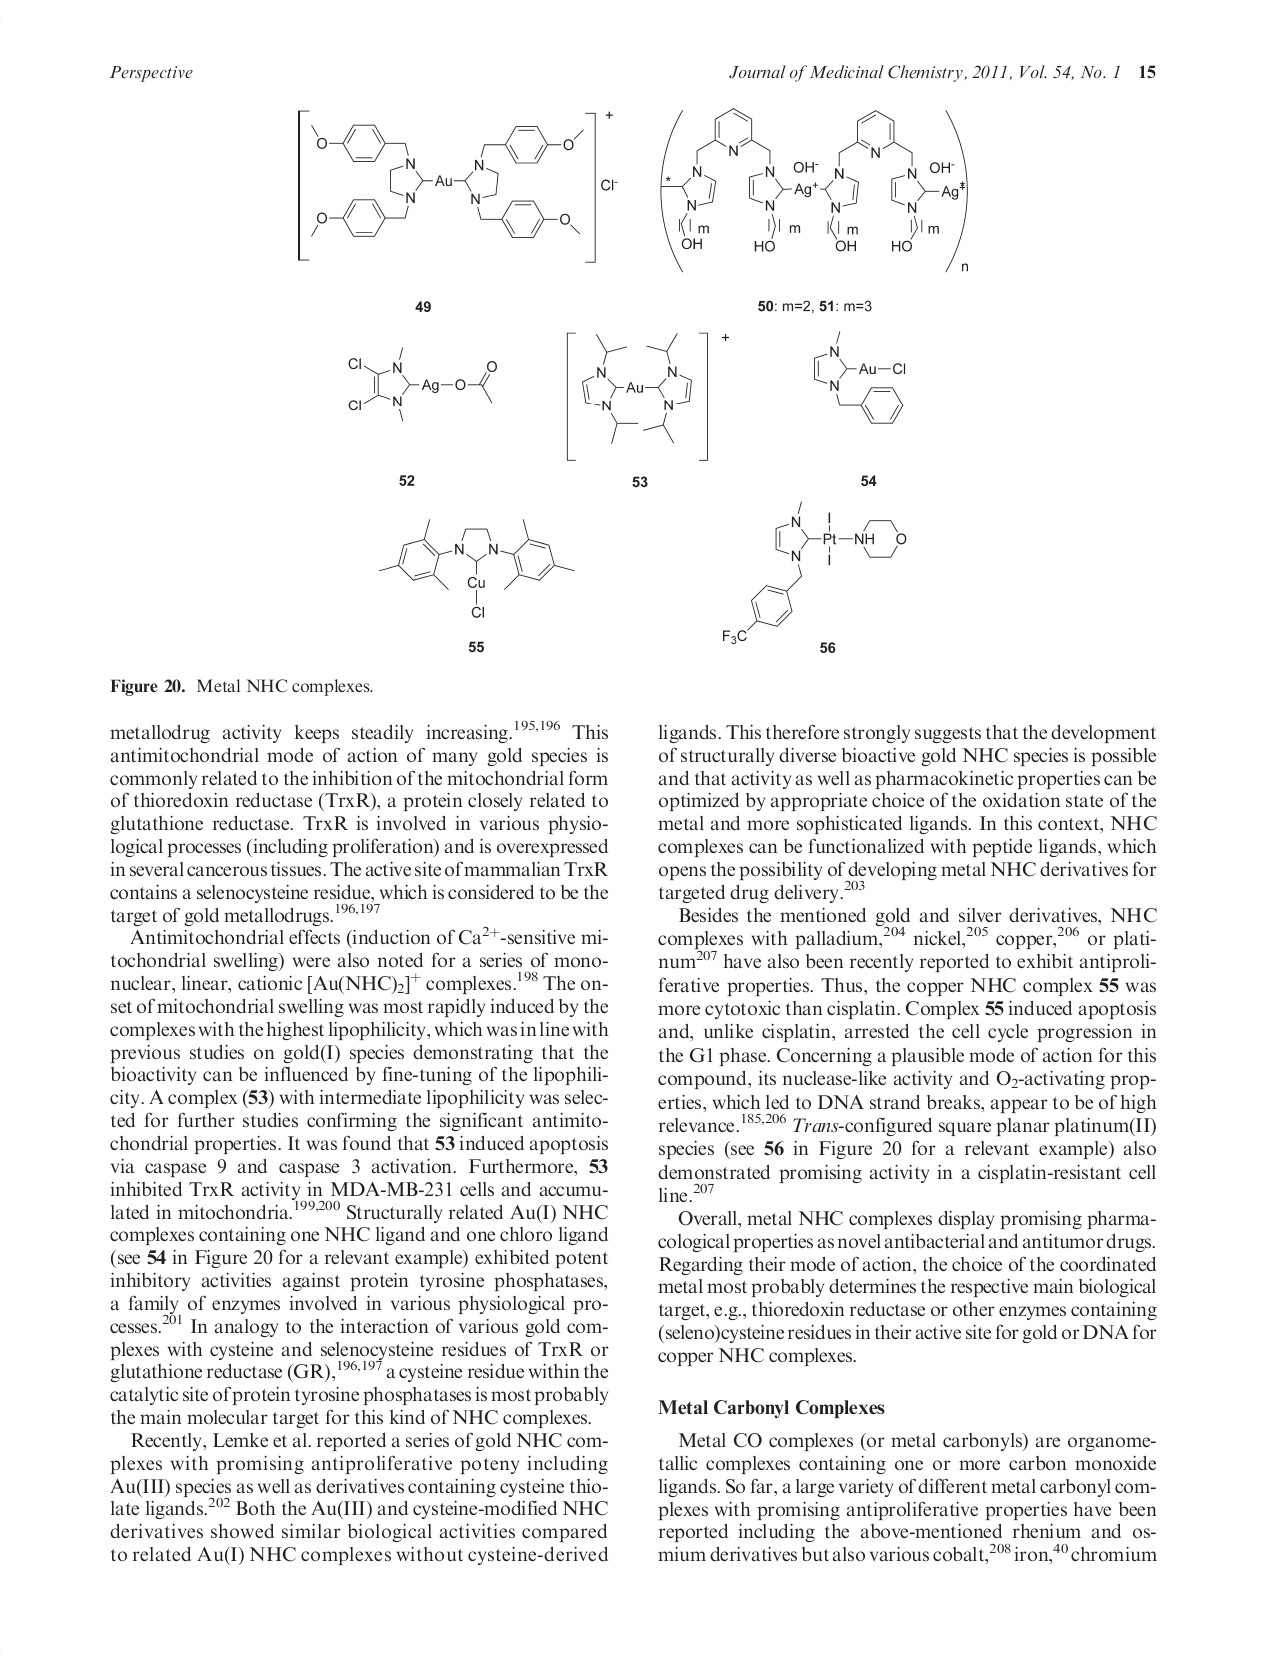exist_molecular: (660, 104, 973, 278), (306, 117, 586, 245), (713, 497, 908, 646), (375, 513, 578, 624), (578, 326, 696, 455), (343, 342, 499, 423), (806, 324, 911, 434)
